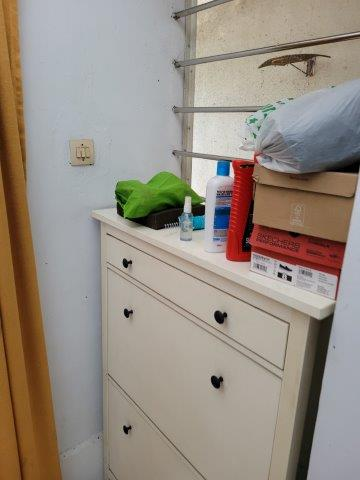plastik: (242, 76, 360, 175)
